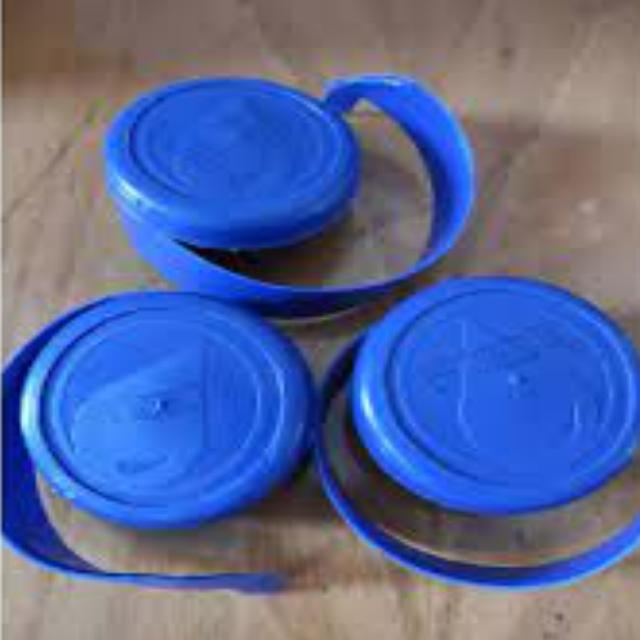TutupGalon: (11, 291, 322, 606), (335, 270, 640, 587), (108, 78, 476, 308)
